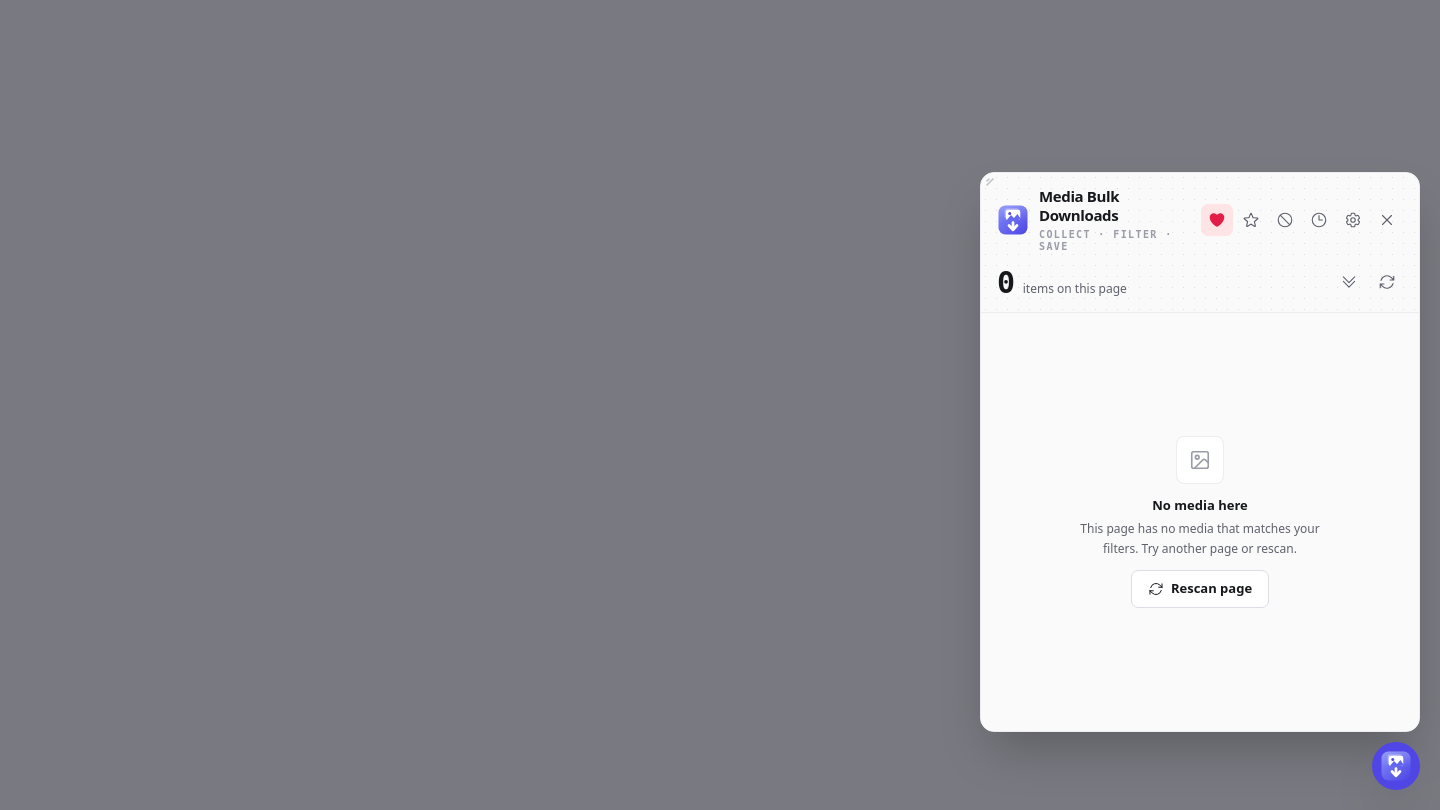
Bubble › closes the panel via the header Close button
Expected: the heading "Media Bulk Downloads" is shown, [1039,186,1119,225]
Click the button named "Close": (1387, 220) [1371,204,1403,236]
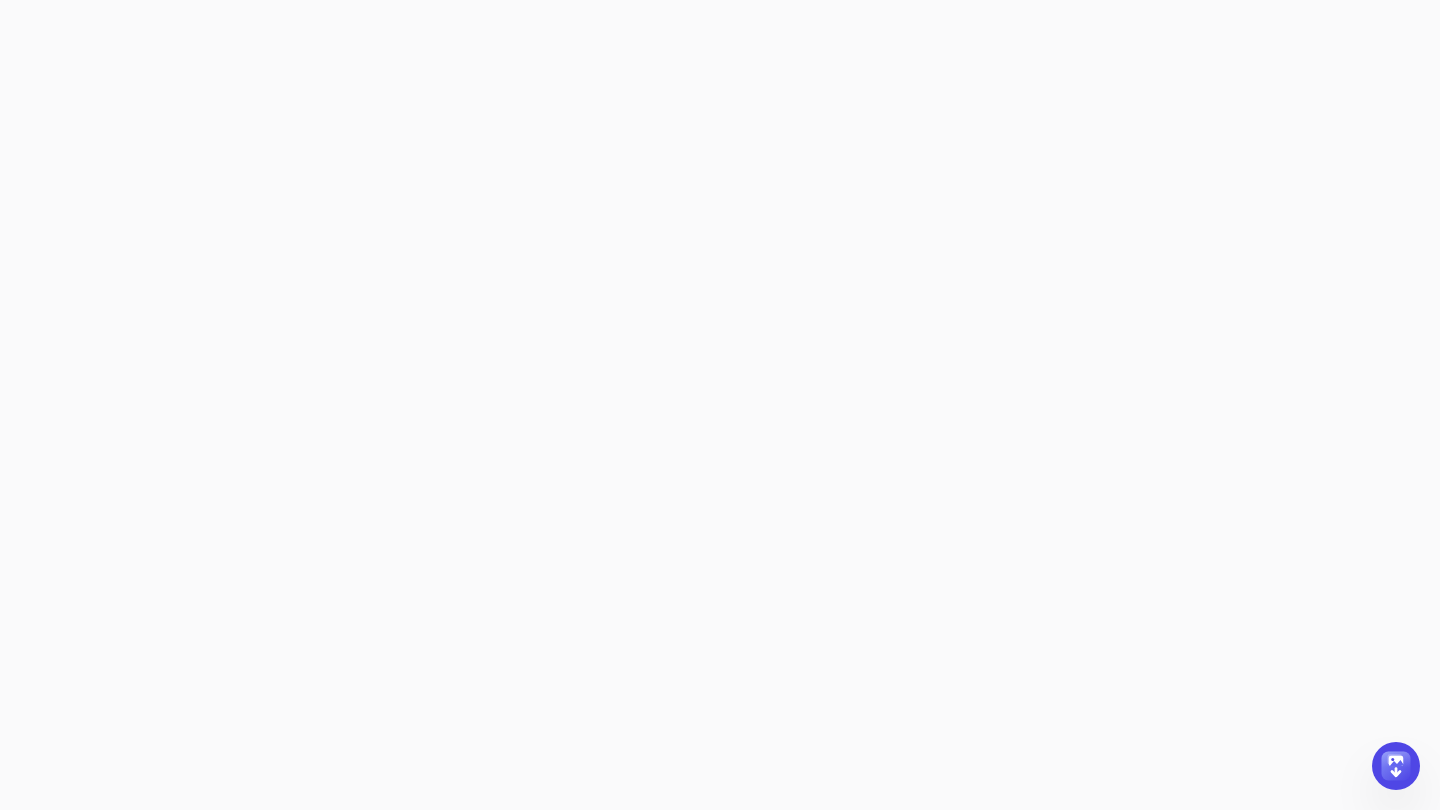
Expected: the heading "Media Bulk Downloads" is gone
